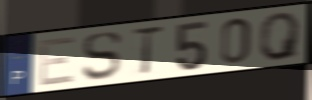0: (219, 16, 254, 67)
5: (174, 18, 210, 73)
E: (37, 34, 77, 88)
Q: (258, 10, 304, 63)
S: (80, 29, 124, 83)
T: (129, 23, 166, 77)
